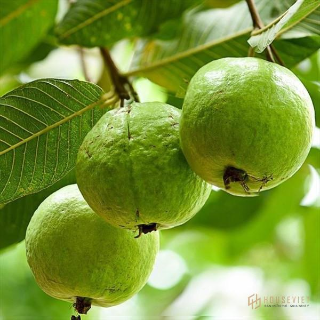oi: (177, 53, 314, 199), (22, 176, 163, 313), (70, 99, 213, 231)
